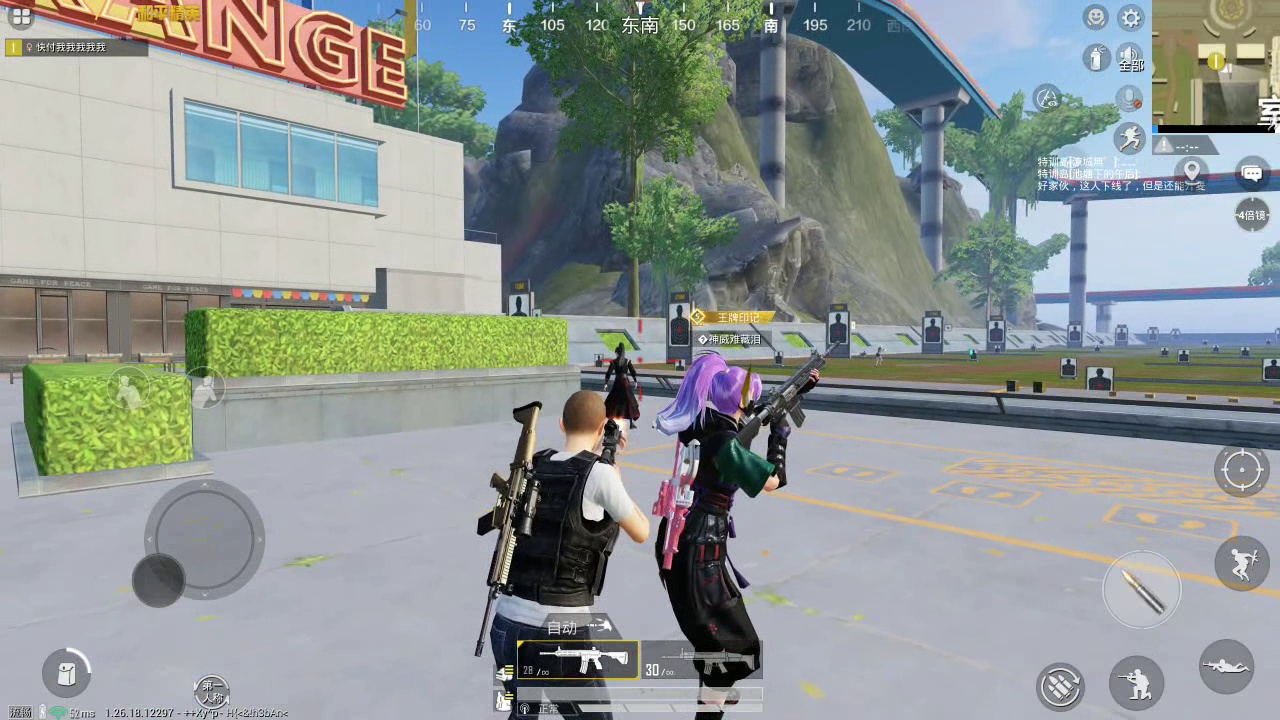enemy: (658, 358, 792, 720), (598, 339, 638, 431)
